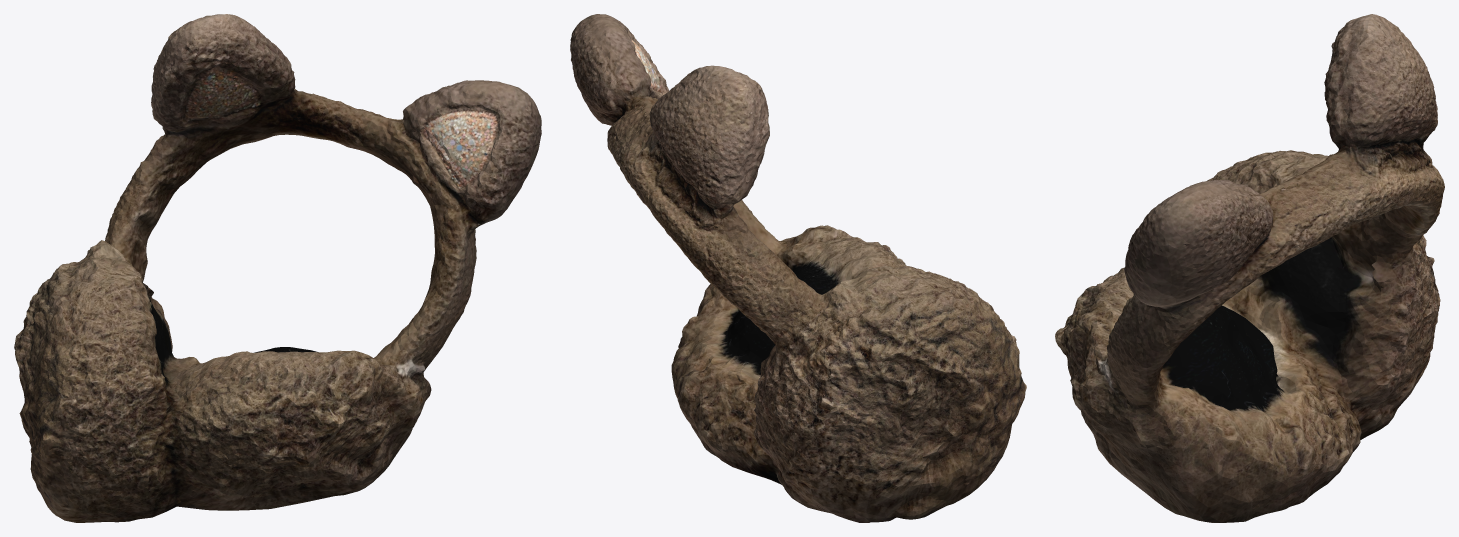
Rendered from Over Ear Cat Headphones.glb.
3 views of the same model, side by side, from view 1: azimuth 30°, elevation 25°; view 2: azimuth 150°, elevation 25°; view 3: azimuth 270°, elevation 25° (orthographic). The views are drawn at different scales.
Size of the model in its own units: 0.7498 by 0.6476 by 0.4871.
1 material, 1 textured.
